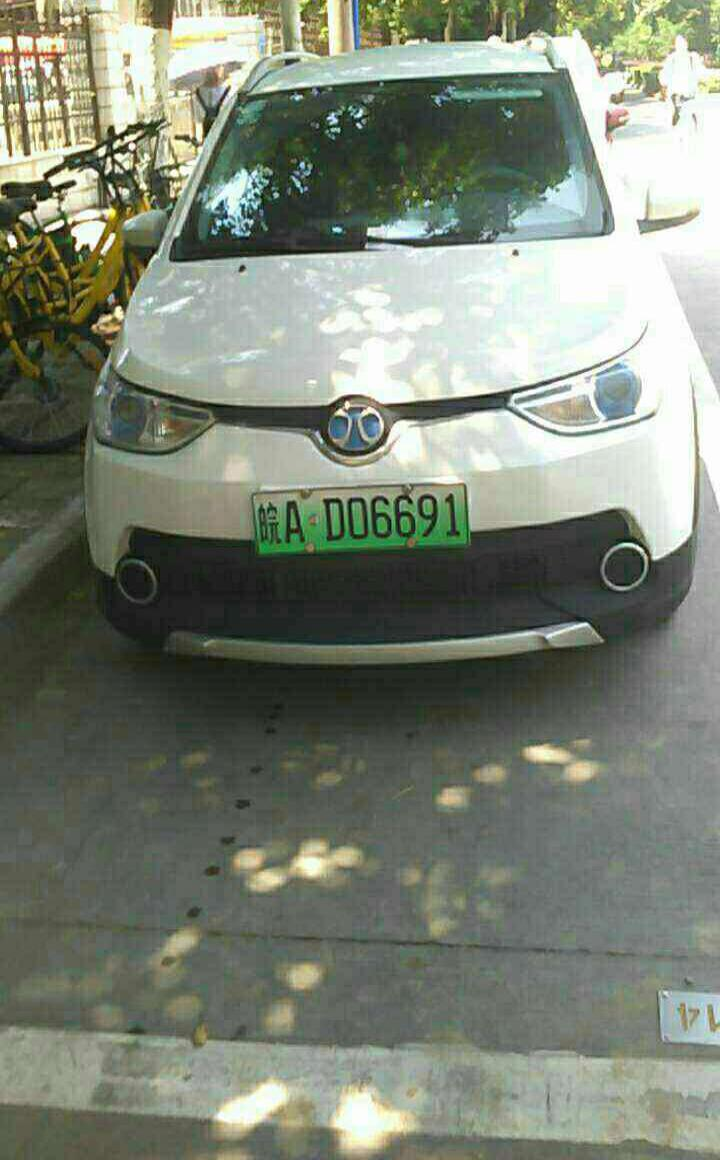car_id: (252, 484, 468, 552)
